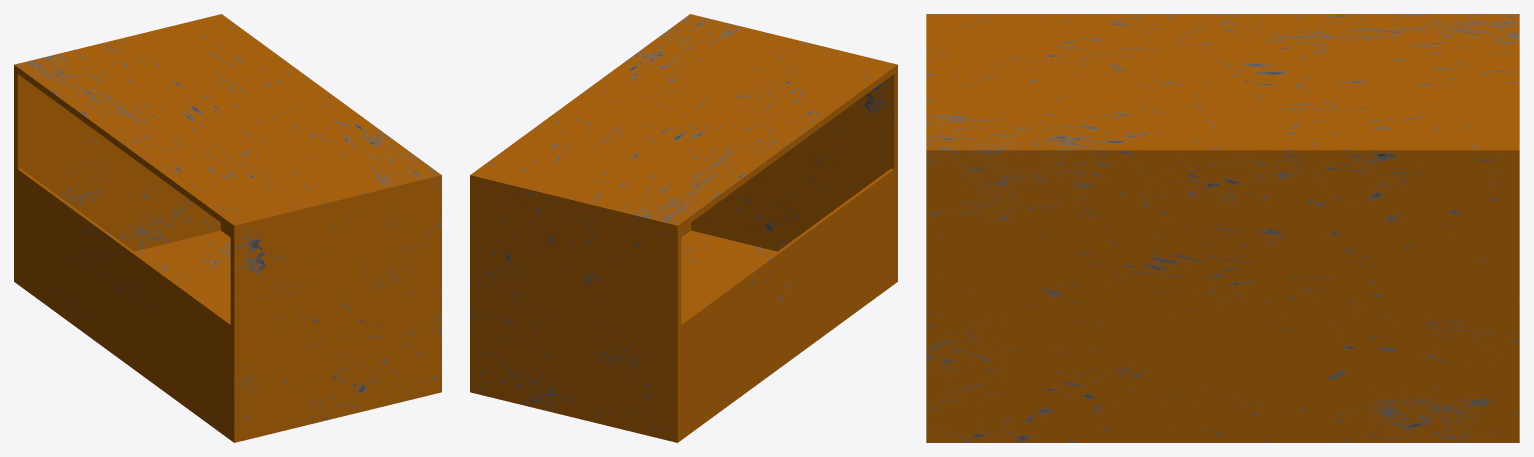
File: Truck_INsidefbx.fbx
3 views of the same model, side by side, from view 1: azimuth 30°, elevation 25°; view 2: azimuth 150°, elevation 25°; view 3: azimuth 270°, elevation 25° (orthographic). The views are drawn at different scales.
Visible parts, largest first — view 1: Cube; view 2: Cube; view 3: Cube.
Part boxes in pixels (x1=…): Cube: x1=14, y1=14, x2=441, y2=442; Cube: x1=470, y1=14, x2=897, y2=442; Cube: x1=926, y1=14, x2=1519, y2=442.
Bounding box in the file's own units: 200 × 200 × 367.
